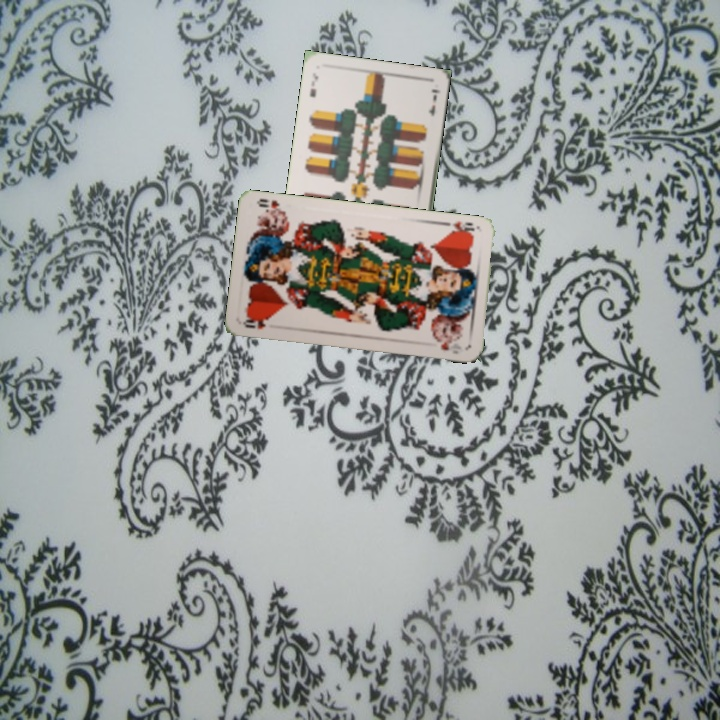E7: (306, 69, 321, 100)
HO: (445, 217, 477, 238), (239, 314, 271, 332)
